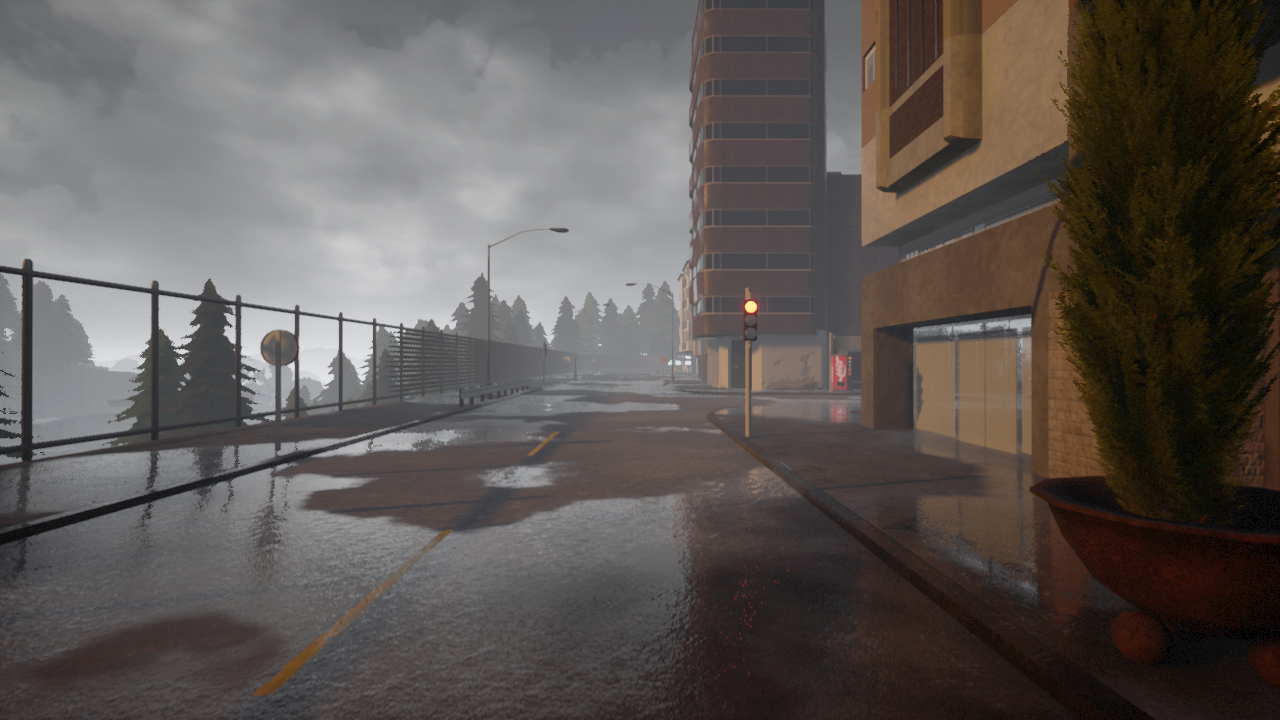red: (738, 296, 760, 344)
